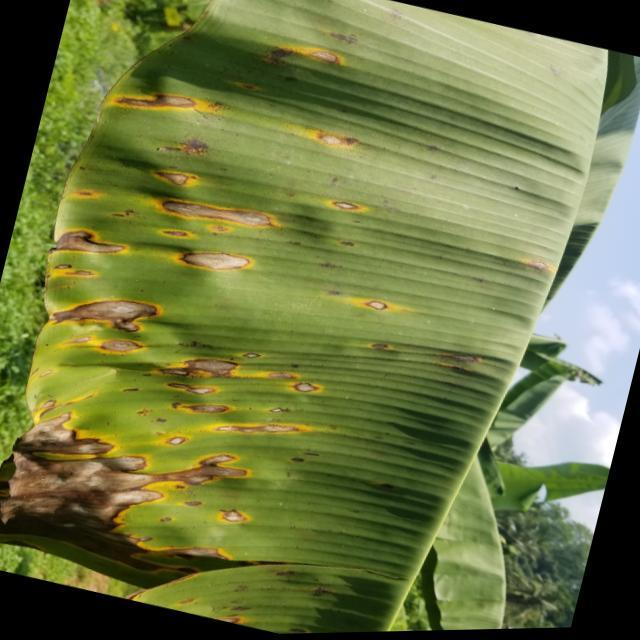Early_rust: (4, 0, 487, 600)
